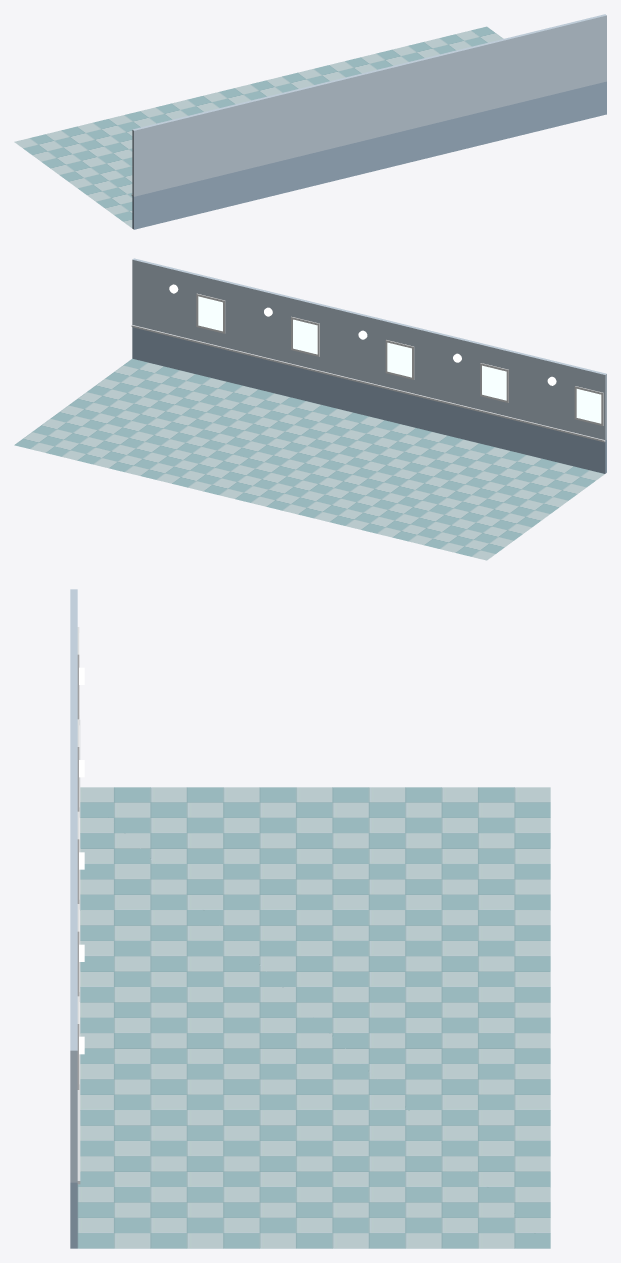
File: ward-module.glb
3 renders of one model, top to bottom at view 1: azimuth 30°, elevation 25°; view 2: azimuth 150°, elevation 25°; view 3: azimuth 270°, elevation 25°, orthographic. The views are drawn at different scales.
Parts seen in each view (by area): view 1: back_wall_upper_3, back_wall_lower_2, floor_1; view 2: floor_1, back_wall_upper_3, back_wall_lower_2, back_wall_rail_4, bay5_window_glass_23, bay2_window_glass_14, bay1_window_glass_11, bay4_window_glass_20, bay3_window_glass_17; view 3: floor_1, back_wall_upper_3, back_wall_rail_4.
Boxes of the visible parts, left/top/right/bottom form: back_wall_upper_3: left=132, top=14, right=606, bottom=196; back_wall_lower_2: left=132, top=81, right=606, bottom=229; floor_1: left=14, top=26, right=503, bottom=227; floor_1: left=14, top=358, right=604, bottom=560; back_wall_upper_3: left=132, top=258, right=606, bottom=440; back_wall_lower_2: left=132, top=327, right=606, bottom=473; back_wall_rail_4: left=131, top=325, right=605, bottom=442; bay5_window_glass_23: left=576, top=389, right=601, bottom=423; bay2_window_glass_14: left=293, top=319, right=317, bottom=354; bay1_window_glass_11: left=198, top=296, right=222, bottom=331; bay4_window_glass_20: left=482, top=365, right=506, bottom=400; bay3_window_glass_17: left=387, top=342, right=411, bottom=377; floor_1: left=77, top=787, right=550, bottom=1248; back_wall_upper_3: left=70, top=589, right=77, bottom=1182; back_wall_rail_4: left=77, top=719, right=80, bottom=1184.
Bounding box in the file's own units: 30 × 6 × 13.2.
Materials: 7 (1 with a texture image).
